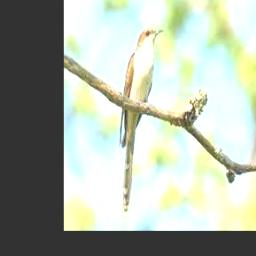Cuckoo: (119, 28, 165, 212)
